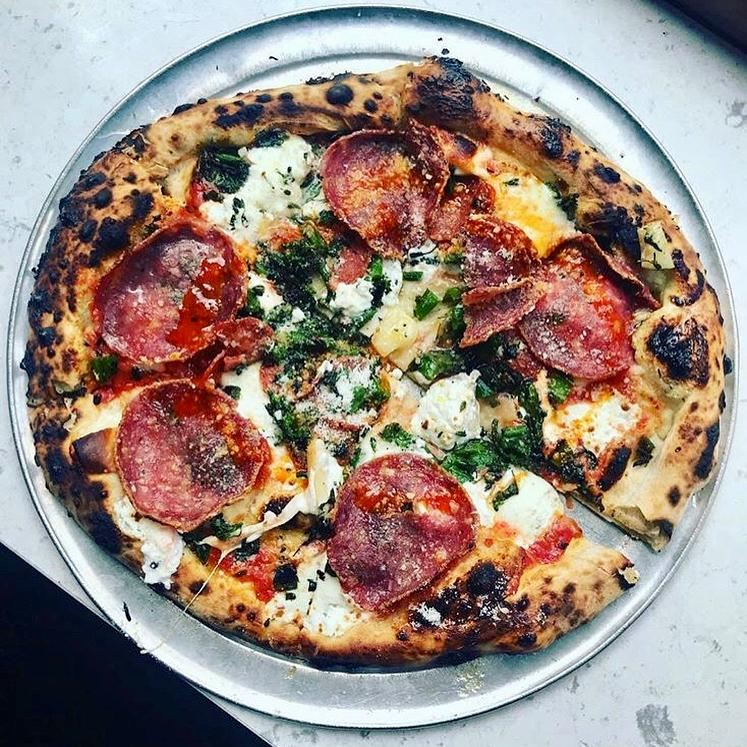Arugula: (402, 344, 544, 414), (262, 312, 385, 371), (262, 224, 340, 311), (442, 420, 549, 477), (187, 140, 252, 200), (411, 286, 465, 353), (266, 390, 318, 445), (361, 256, 390, 307), (540, 375, 574, 406)
Pepperoni: (111, 371, 271, 537), (324, 449, 477, 612), (91, 215, 253, 368), (518, 227, 650, 392), (317, 122, 448, 262), (450, 206, 544, 345), (418, 168, 502, 243)
Pizza: (22, 57, 729, 682)
